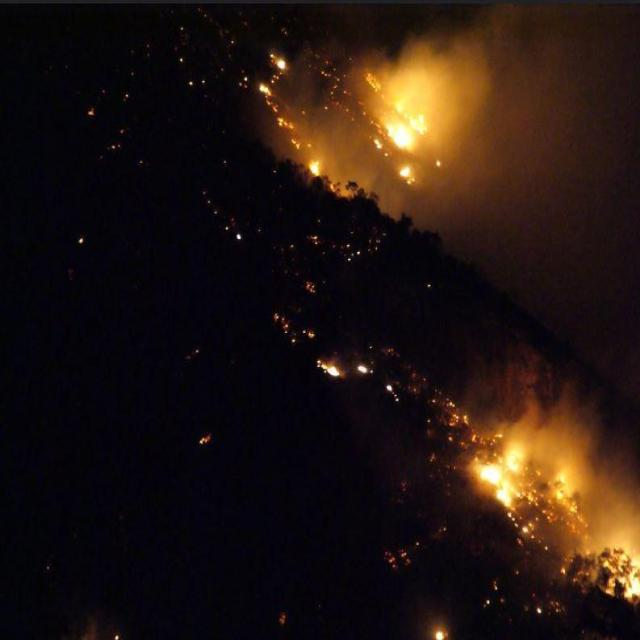Fire: (473, 441, 587, 538), (364, 67, 430, 180), (258, 50, 301, 148), (600, 540, 638, 604), (320, 358, 340, 378), (306, 156, 322, 179)
